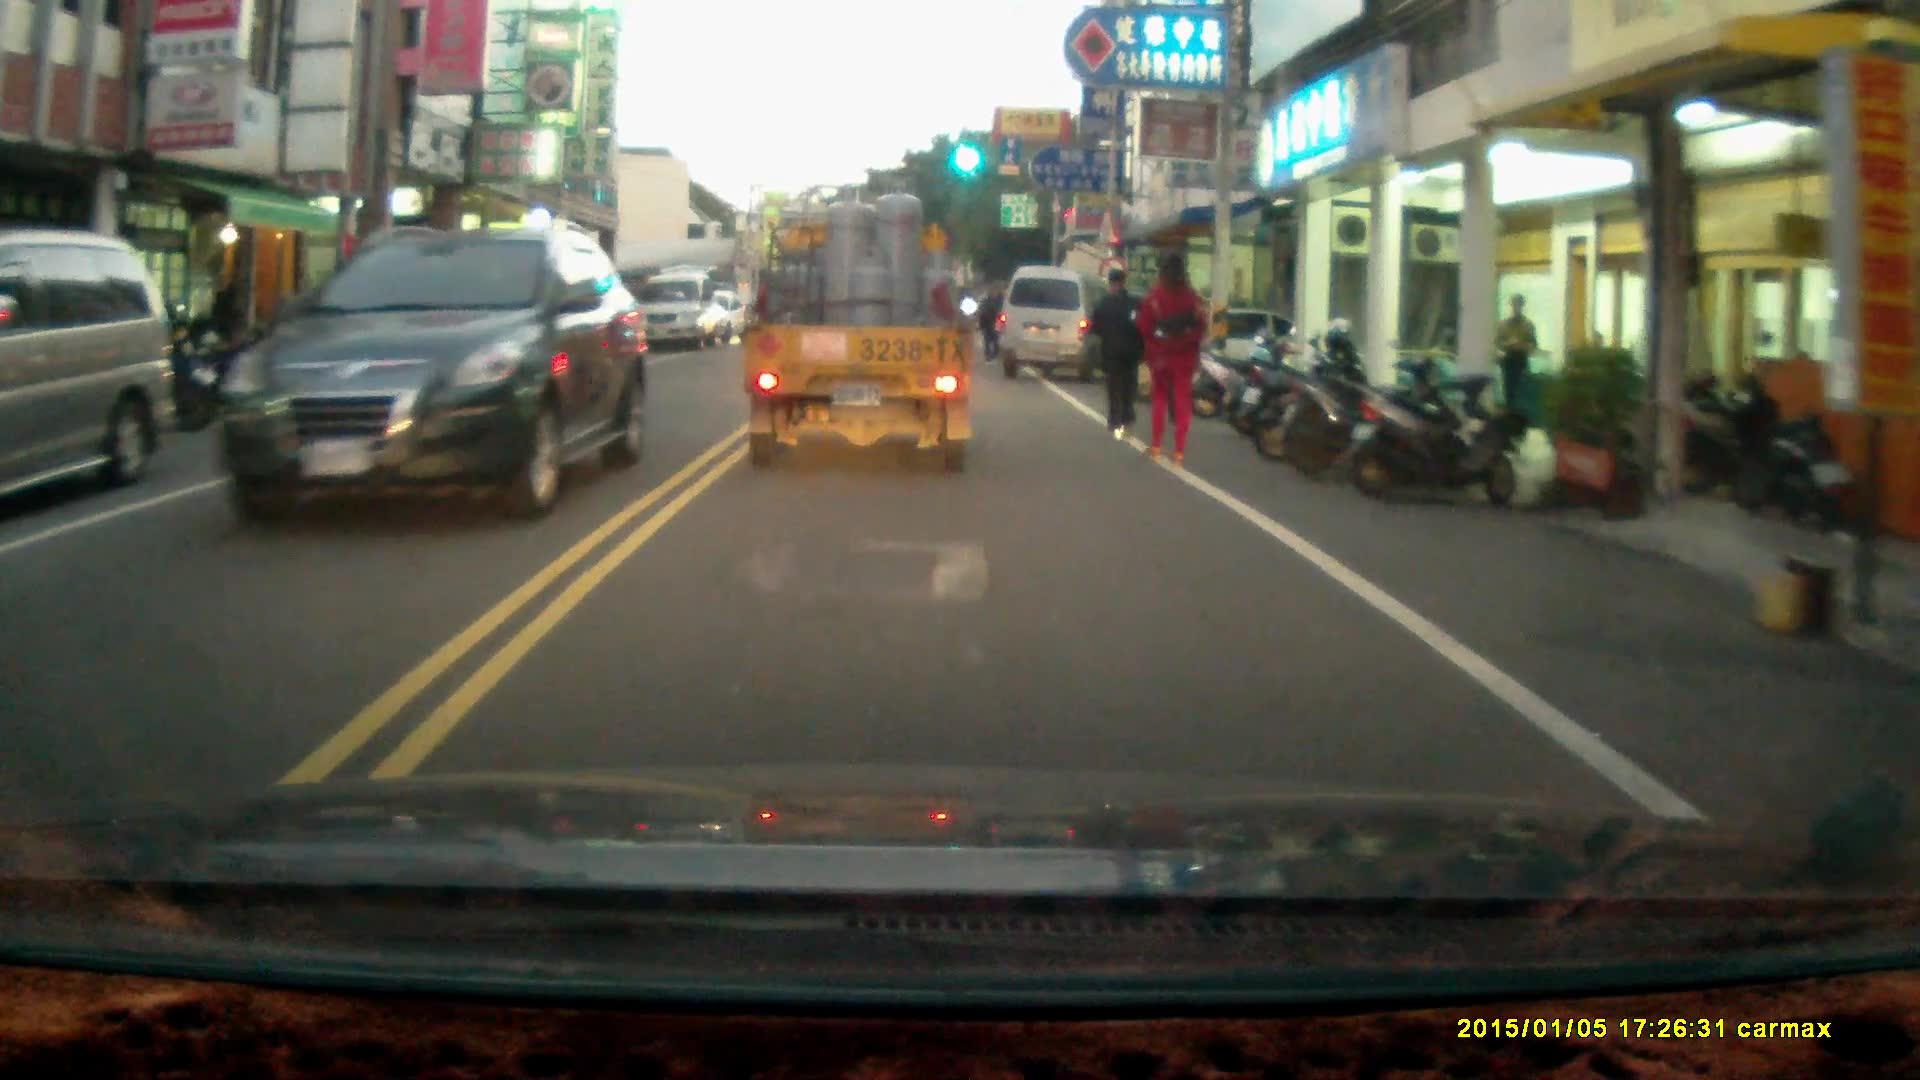pedestrian: (1139, 249, 1209, 468), (1087, 264, 1152, 441), (1492, 291, 1538, 425)
vehicle: (222, 216, 651, 529), (738, 176, 984, 480), (1, 232, 193, 503), (259, 290, 511, 391), (1001, 266, 1120, 384), (638, 267, 726, 351)
